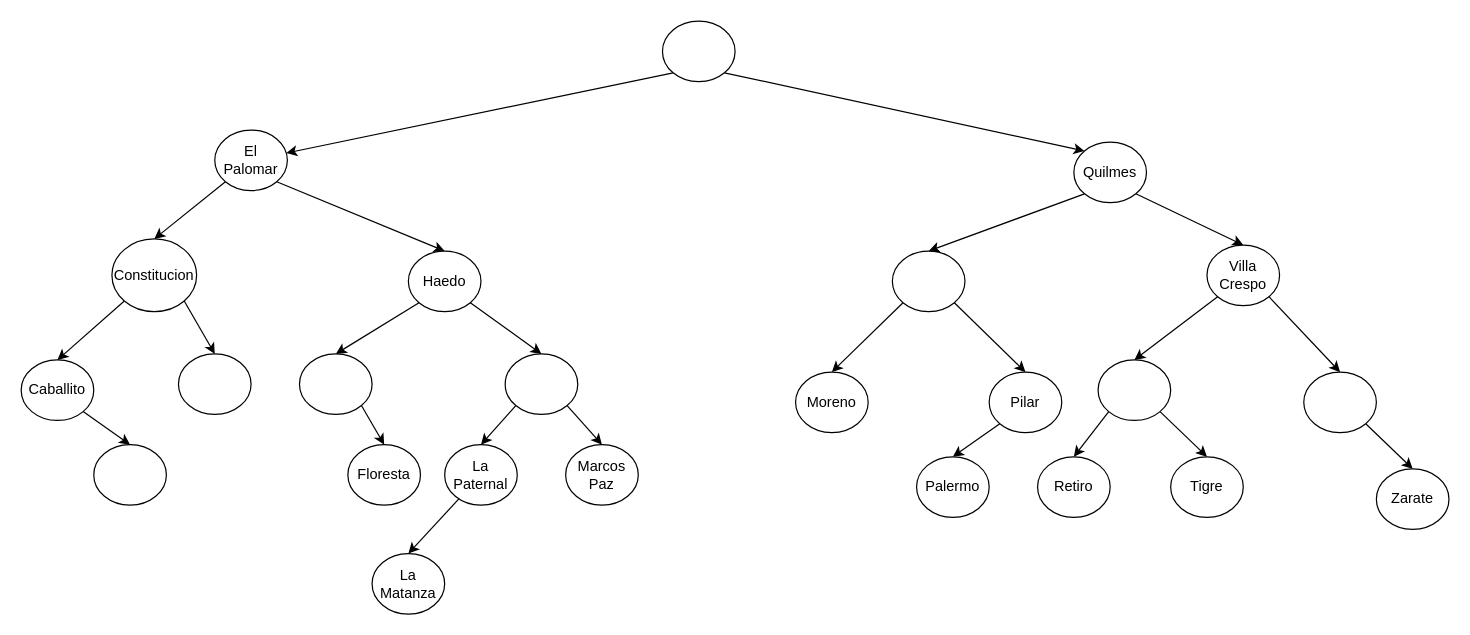
The diagram is 1470 pixels wide and 635 high, and some of its shapes have lost their labels. Here are the shapes that lost their labels. From the top down, the centre of each, then its label:
At [698,51]: "Merlo".
At [928,281]: "Once".
At [214,383]: "Delta".
At [335,383]: "Flores".
At [541,383]: "Lobos".
At [1134,389]: "Saenz".
At [1339,402]: "Villa Devoto".
At [129,474]: "Caseros".
